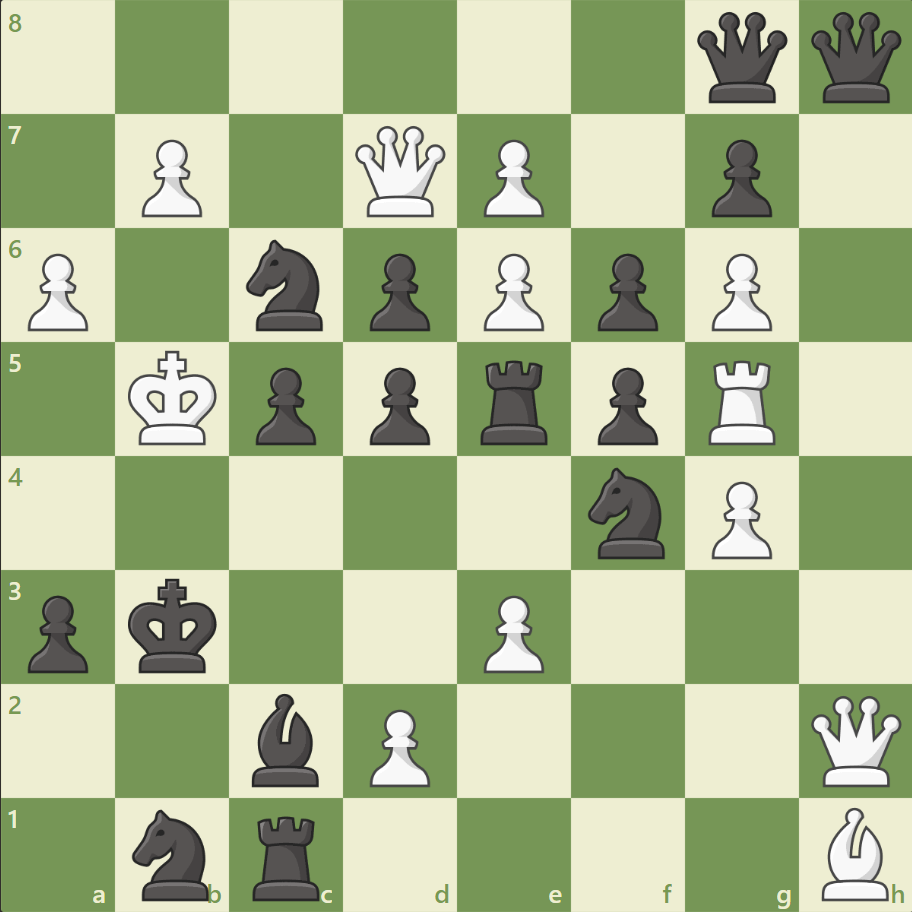B: (812, 801, 896, 904)
K: (124, 344, 224, 452)
P: (133, 132, 208, 223), (474, 132, 549, 223), (20, 246, 95, 337), (474, 246, 549, 337), (701, 246, 776, 337), (701, 473, 776, 564), (474, 586, 549, 677), (361, 700, 435, 791)
Q: (351, 122, 450, 222), (805, 690, 904, 789)
R: (700, 352, 783, 449)
b: (244, 687, 328, 790)
k: (124, 571, 224, 679)
n: (124, 802, 222, 904), (238, 234, 335, 337), (579, 461, 676, 564)
p: (701, 132, 776, 223), (247, 359, 322, 450), (20, 586, 95, 677), (361, 246, 435, 337), (588, 246, 662, 337), (361, 359, 435, 450), (588, 359, 662, 450)
q: (691, 9, 790, 108), (805, 9, 904, 108)
r: (246, 806, 329, 904), (473, 352, 556, 449)
